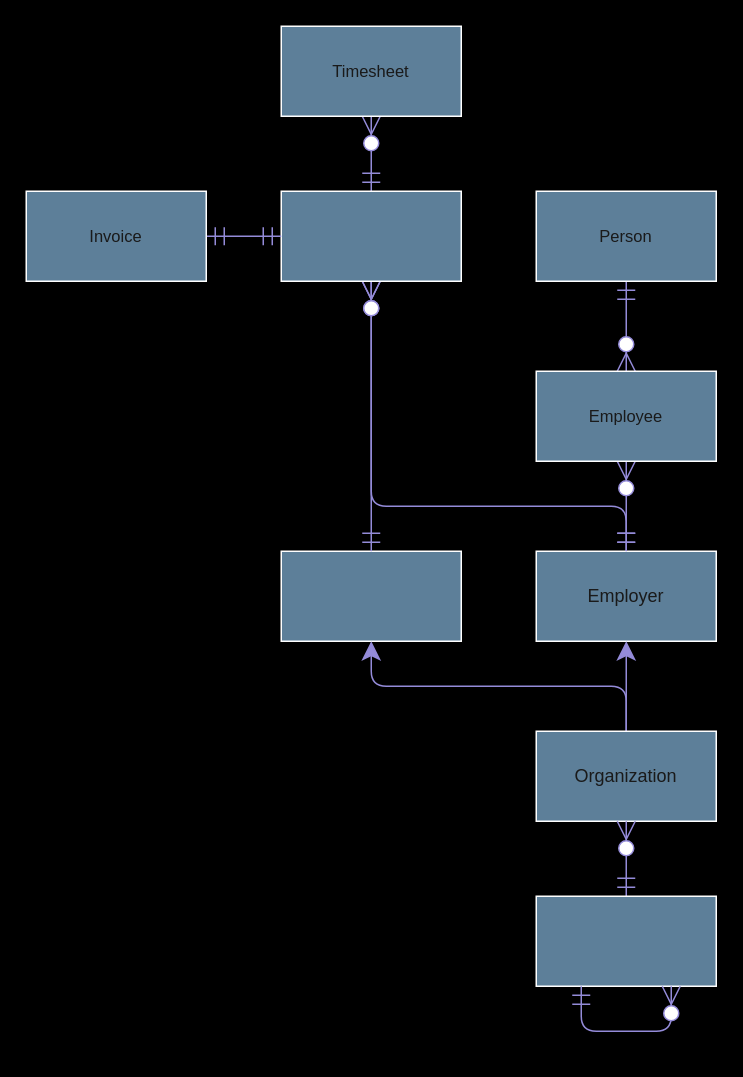
This 743x1077 diagram has some shape labels left out. The shapes that lost their labels are listed below. From the top down, each one's centre as x and y in pixels, then its label:
At pixel 370 235: "Job".
At pixel 370 595: "Client".
At pixel 625 940: "Location".
